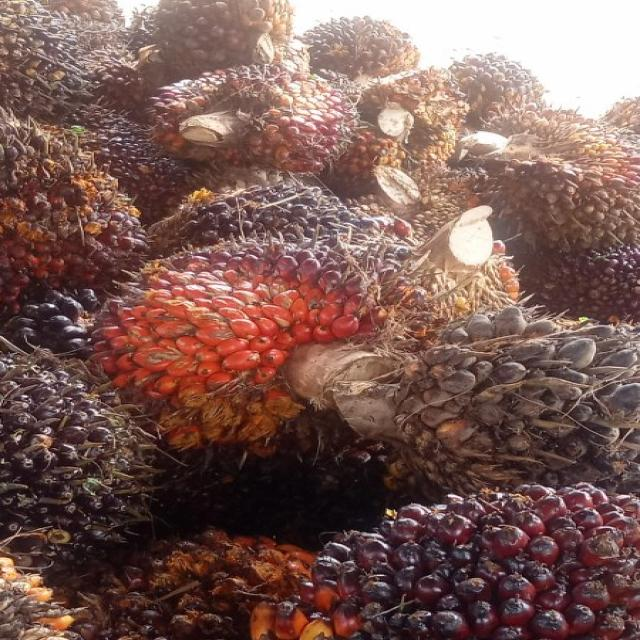fraksi 3: (74, 206, 455, 464)
